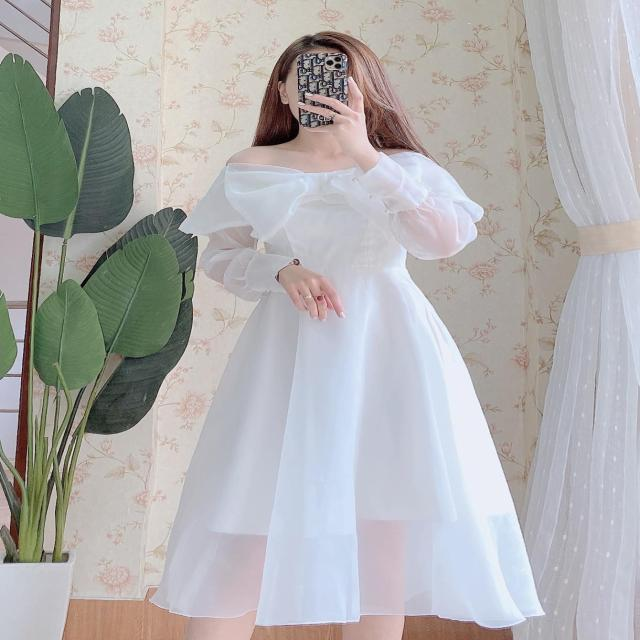clothes: (160, 144, 544, 626)
